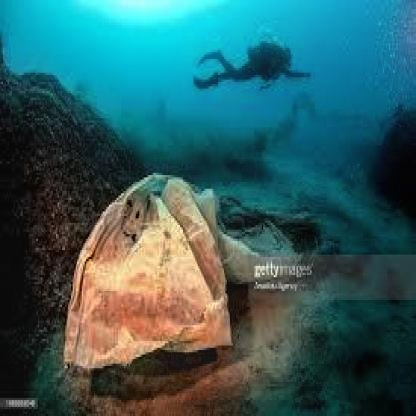pbag: (62, 171, 303, 384)
